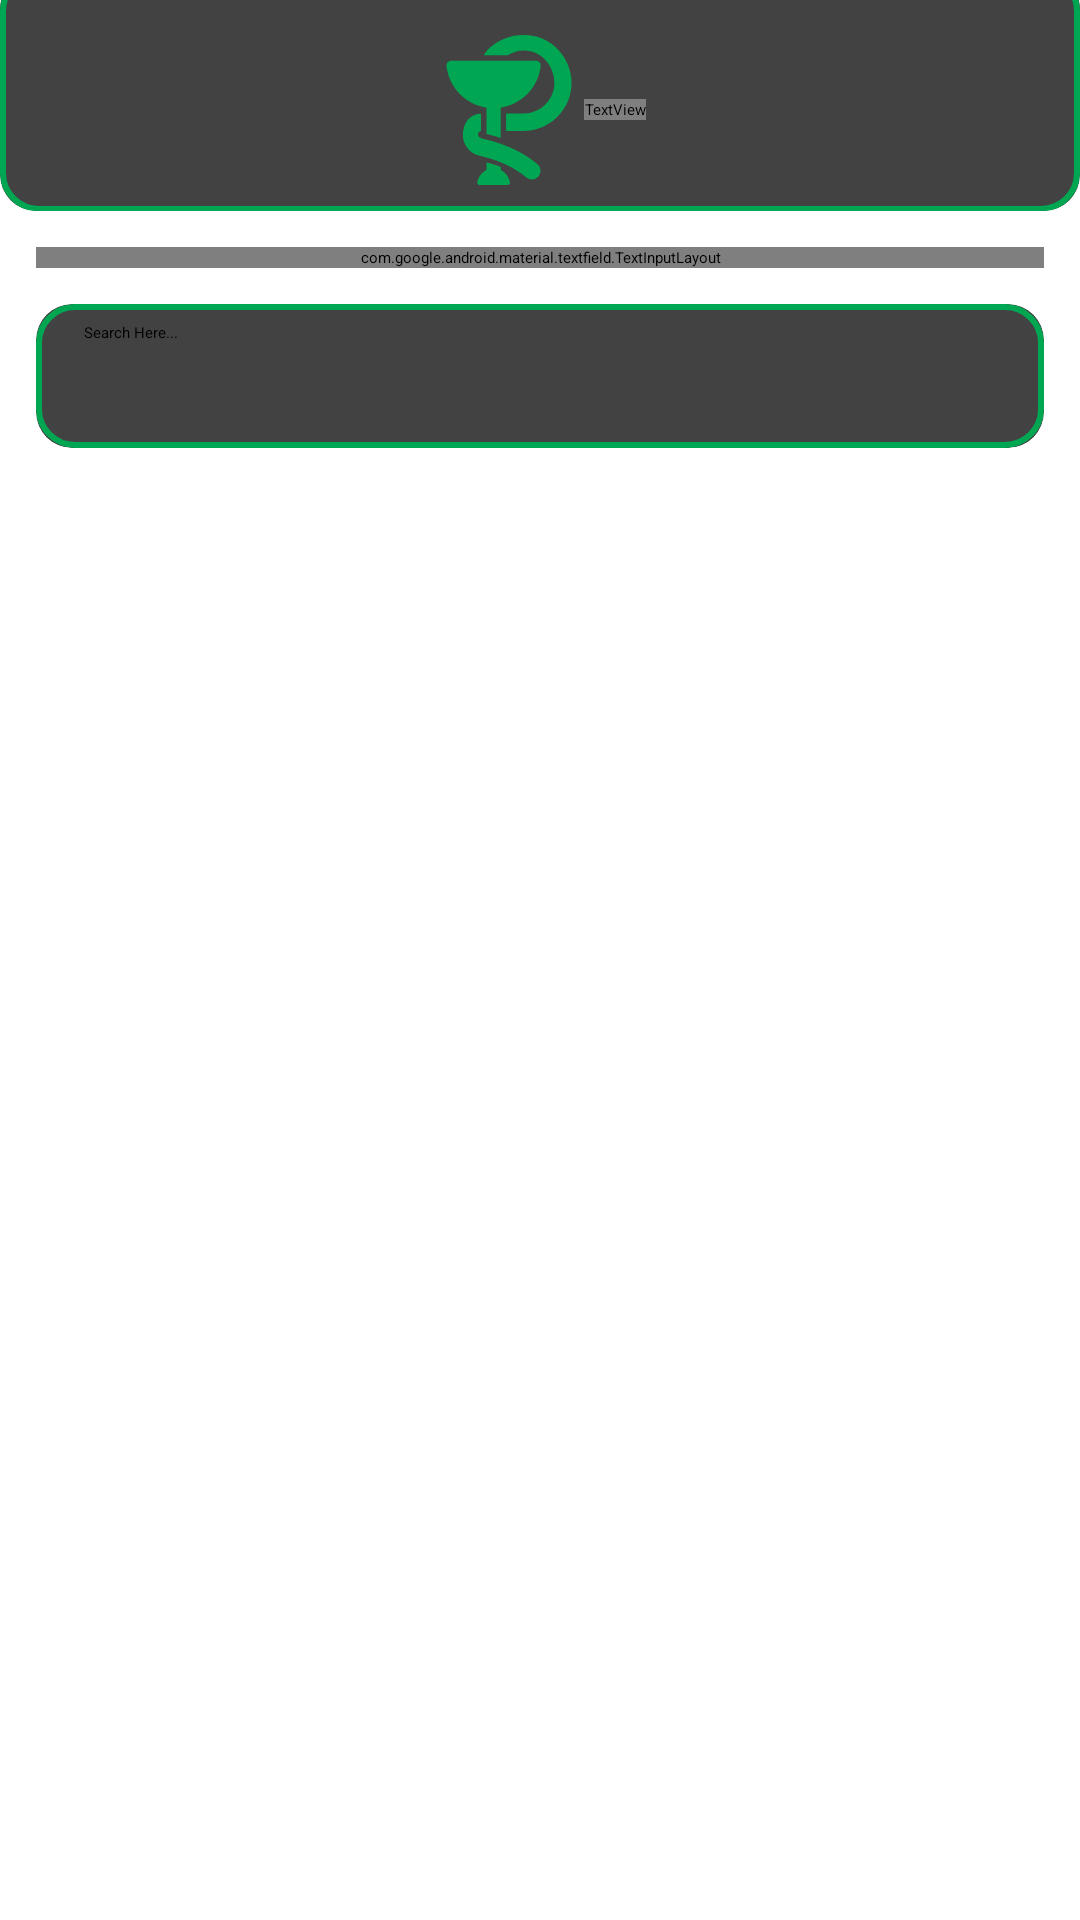

Icon bounding boxes for this 1080 × 1920 phone screenshot, format [x1, y1, x2, y2]:
pharmacy: [446, 35, 572, 185]
